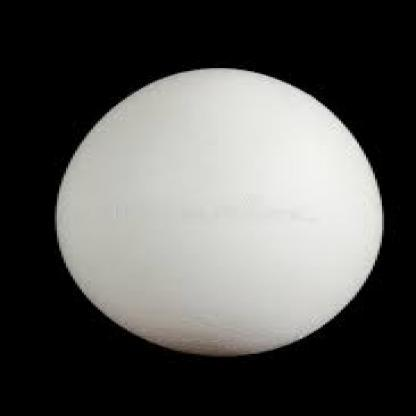egg: (51, 69, 387, 358)
